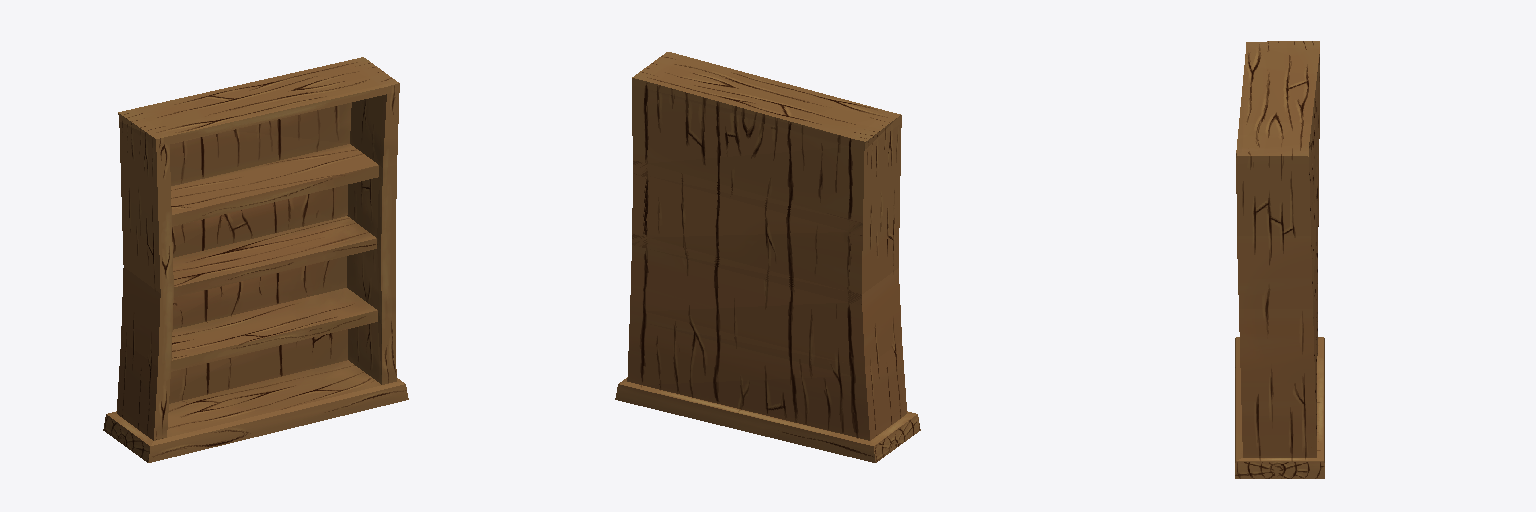
3 renders of one model, left to right at view 1: azimuth 30°, elevation 25°; view 2: azimuth 150°, elevation 25°; view 3: azimuth 270°, elevation 25°, orthographic.
Visible parts, largest first — view 1: Shelve; view 2: Shelve; view 3: Shelve.
Boxes of the visible parts, x1,y1,x2,y2 form: Shelve: [103, 57, 408, 462]; Shelve: [615, 52, 920, 462]; Shelve: [1235, 41, 1324, 478].
Bounding box in the file's own units: 36.97 × 43.15 × 11.09.
1 materials, 1 textured.